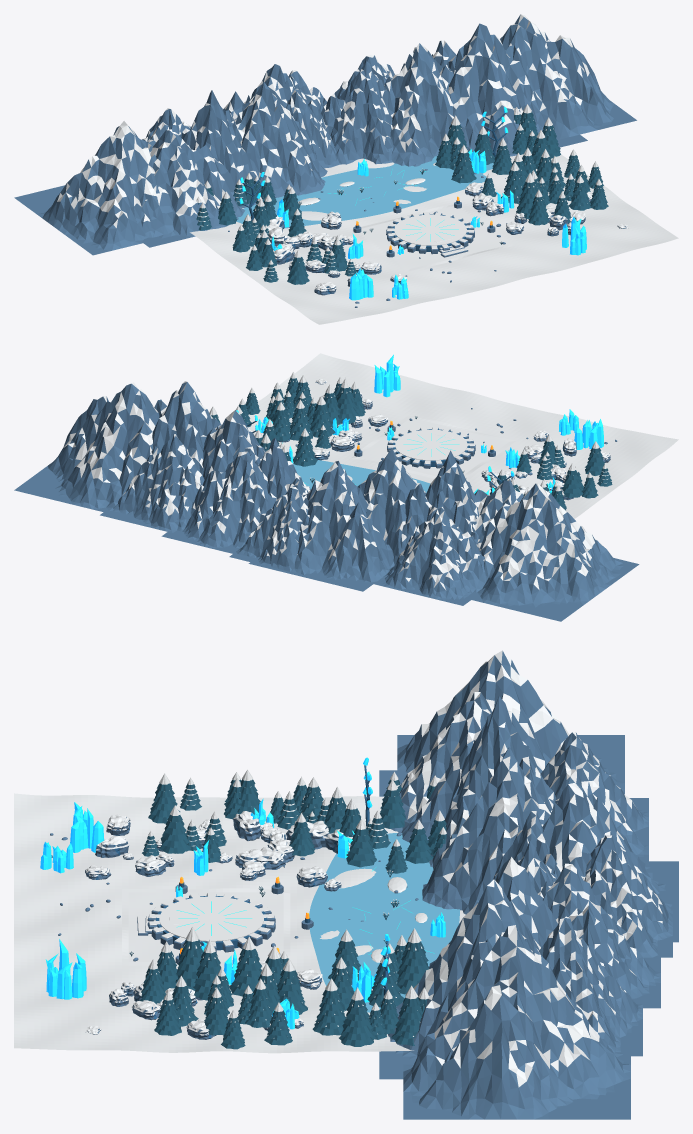
File: ice_scenario.glb
3 views of the same model, one above another, from view 1: azimuth 30°, elevation 25°; view 2: azimuth 150°, elevation 25°; view 3: azimuth 270°, elevation 25° (orthographic). The views are drawn at different scales.
Visible parts, largest first — view 1: Snow_Ground, Mountain_07, Mountain_06, Mountain_08, Frozen_Lake_Surface, Mountain_05, Mountain_00, Mountain_02, Mountain_04, Mountain_01, Arena_Snow_Top, Mountain_03 (+13 smaller); view 2: Snow_Ground, Mountain_07, Mountain_08, Mountain_10, Mountain_09, Mountain_11, Mountain_12, Mountain_01, Mountain_13, Mountain_02, Mountain_06, Mountain_05 (+13 smaller); view 3: Snow_Ground, Mountain_08, Frozen_Lake_Surface, Mountain_02, Mountain_07, Mountain_06, Mountain_12, Mountain_11, Mountain_13, Mountain_10, Mountain_00, Mountain_01 (+30 smaller).
Part boxes in pixels (x1,y1,x2,y2): Snow_Ground: [190, 154, 678, 324]; Mountain_07: [14, 121, 175, 255]; Mountain_06: [447, 23, 587, 156]; Mountain_08: [500, 14, 636, 139]; Frozen_Lake_Surface: [236, 155, 493, 228]; Mountain_05: [384, 43, 468, 166]; Mountain_00: [141, 129, 245, 247]; Mountain_02: [232, 82, 327, 197]; Mountain_04: [320, 61, 392, 164]; Mountain_01: [179, 90, 264, 207]; Arena_Snow_Top: [394, 214, 466, 245]; Mountain_03: [286, 90, 339, 167]; Snow_Ground: [248, 353, 678, 518]; Mountain_07: [465, 483, 639, 621]; Mountain_08: [14, 382, 159, 520]; Mountain_10: [248, 461, 394, 591]; Mountain_09: [370, 506, 486, 605]; Mountain_11: [161, 451, 275, 559]; Mountain_12: [100, 434, 204, 535]; Mountain_01: [393, 450, 479, 564]; Mountain_13: [229, 486, 321, 577]; Mountain_02: [357, 448, 426, 556]; Mountain_06: [152, 381, 221, 475]; Mountain_05: [202, 410, 265, 486]; Snow_Ground: [14, 793, 465, 1053]; Mountain_08: [403, 925, 630, 1119]; Frozen_Lake_Surface: [309, 833, 459, 1012]; Mountain_02: [422, 747, 551, 914]; Mountain_07: [397, 650, 624, 794]; Mountain_06: [379, 879, 540, 1079]; Mountain_12: [539, 916, 642, 1056]; Mountain_11: [543, 863, 660, 1008]; Mountain_13: [584, 835, 672, 957]; Mountain_10: [542, 777, 678, 942]; Mountain_00: [379, 692, 493, 842]; Mountain_01: [429, 696, 555, 869].
Bounding box in the file's own units: 152 × 30.06 × 111.
